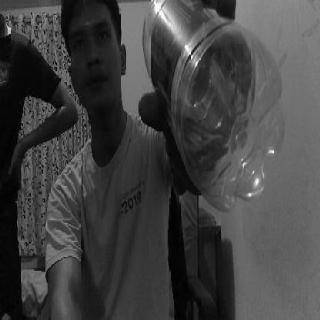plastic_bottles: (138, 2, 288, 210)
